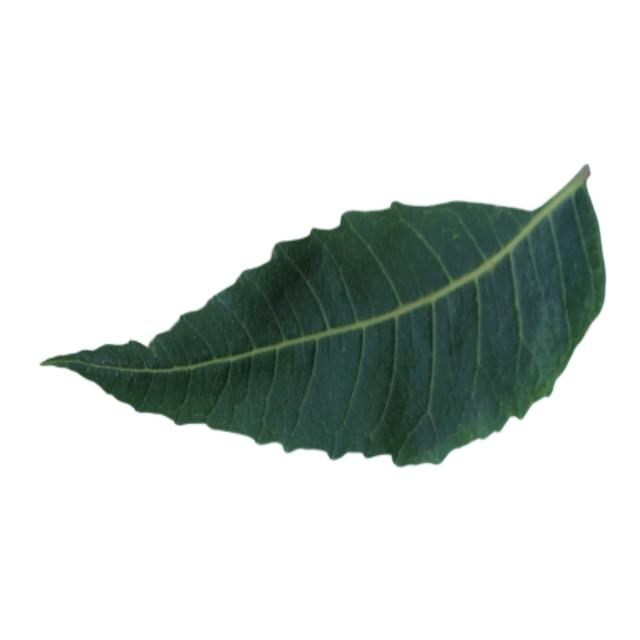Medicinal-Neem: (43, 162, 607, 466)
